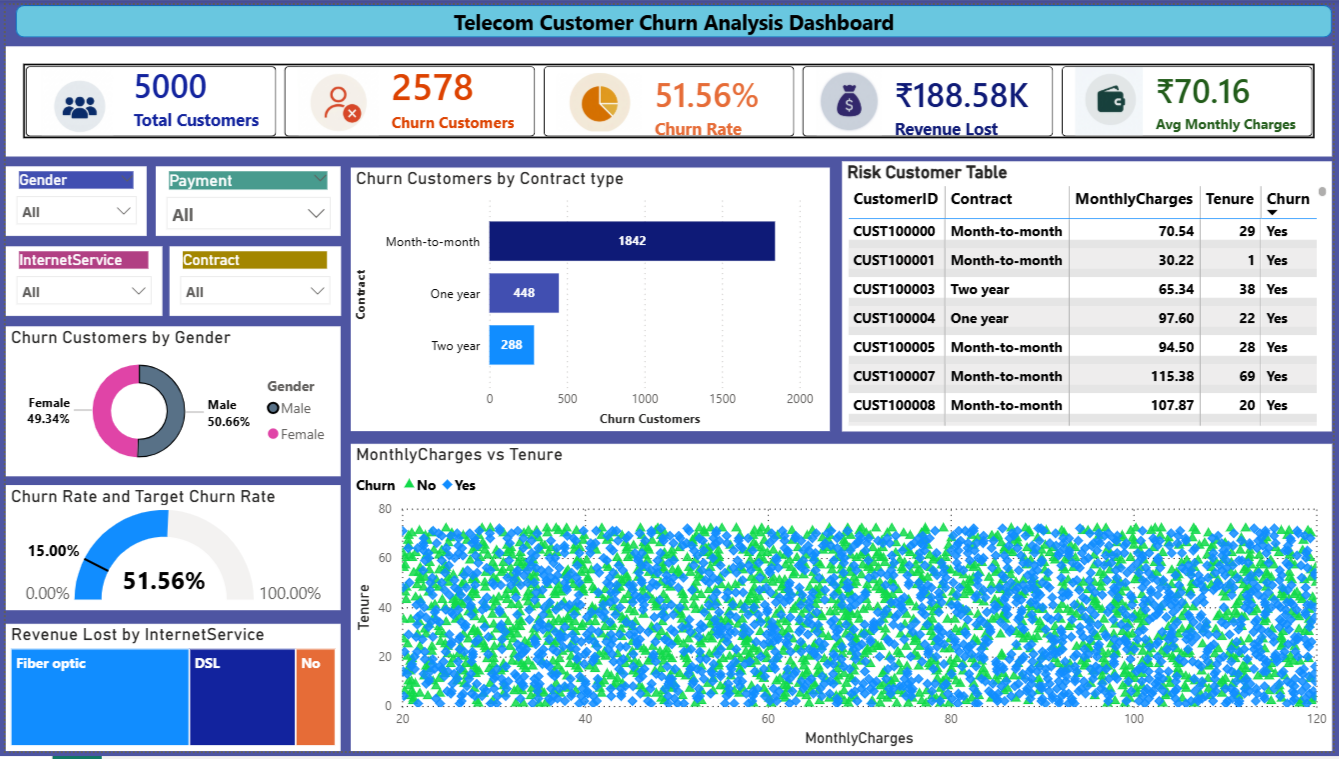

This screenshot's page, from the dashboard's own definition file:
{"tool":"powerbi","page":{"name":"Page 1","canvas":[1280,720],"ordinal":0},"visuals":[{"type":"shape","box":[9.7,0,1270.4,31.4],"z":0},{"type":"donutChart","fields":{"Category":["telecom customer churn.Gender"],"Y":["telecom customer churn.Churn Customers"]},"box":[0,310.1,323.3,144.8],"z":1000},{"type":"barChart","title":"Churn Customers by Contract type","fields":{"Category":["telecom customer churn.Contract"],"Y":["telecom customer churn.Churn Customers"]},"box":[333,156.8,462.1,254.6],"z":2000},{"type":"treemap","fields":{"Group":["telecom customer churn.InternetService"],"Values":["telecom customer churn.Revenue Lost"]},"box":[0,597.2,323.3,123.1],"z":3000},{"type":"scatterChart","title":"MonthlyCharges vs Tenure","fields":{"Series":["telecom customer churn.Churn"],"X":["telecom customer churn.MonthlyCharges"],"Y":["telecom customer churn.Tenure"]},"box":[333,423.5,947.1,296.8],"z":4000},{"type":"tableEx","title":"Risk Customer Table ","fields":{"Values":["telecom customer churn.CustomerID","telecom customer churn.Contract","telecom customer churn.MonthlyCharges","telecom customer churn.Tenure","telecom customer churn.Churn"]},"box":[807.1,150.8,472.9,260.6],"z":5000},{"type":"slicer","fields":{"Values":["telecom customer churn.Contract"]},"box":[158,232.8,165.3,67.6],"z":7000},{"type":"slicer","fields":{"Values":["telecom customer churn.InternetService"]},"box":[0,232.8,150.8,67.6],"z":8000},{"type":"slicer","fields":{"Values":["telecom customer churn.PaymentMethod"]},"box":[144.8,155.6,178.6,67.6],"z":9000},{"type":"gauge","fields":{"Y":["telecom customer churn.Churn Rate"],"TargetValue":["telecom customer churn.Target Churn Rate"]},"box":[0,463.3,323.3,120.6],"z":10000},{"type":"cardVisual","fields":{"Data":["telecom customer churn.Total Customers","telecom customer churn.Churn Customers","telecom customer churn.Churn Rate","telecom customer churn.Revenue Lost","telecom customer churn.Avg Monthly Charges"]},"box":[0,39.8,1280,106.2],"z":11000},{"type":"slicer","fields":{"Values":["telecom customer churn.Gender"]},"box":[0,155.6,136.3,67.6],"z":12000}]}

Visuals, with their boxes in screenshot pixels (x1, y1, x2, y2), scaled from the page's 1280x720 canvas onto the 1339x759 screenshot:
shape: (10, 0, 1338, 33)
donutChart - telecom customer churn.Gender x telecom customer churn.Churn Customers: (0, 327, 338, 480)
"Churn Customers by Contract type" barChart: (348, 165, 832, 434)
treemap - telecom customer churn.InternetService x telecom customer churn.Revenue Lost: (0, 630, 338, 758)
"MonthlyCharges vs Tenure" scatterChart: (348, 446, 1338, 758)
"Risk Customer Table " tableEx: (844, 159, 1338, 434)
slicer - telecom customer churn.Contract: (165, 245, 338, 317)
slicer - telecom customer churn.InternetService: (0, 245, 158, 317)
slicer - telecom customer churn.PaymentMethod: (151, 164, 338, 235)
gauge - telecom customer churn.Churn Rate x telecom customer churn.Target Churn Rate: (0, 488, 338, 616)
cardVisual - telecom customer churn.Total Customers x telecom customer churn.Churn Customers: (0, 42, 1338, 154)
slicer - telecom customer churn.Gender: (0, 164, 143, 235)
